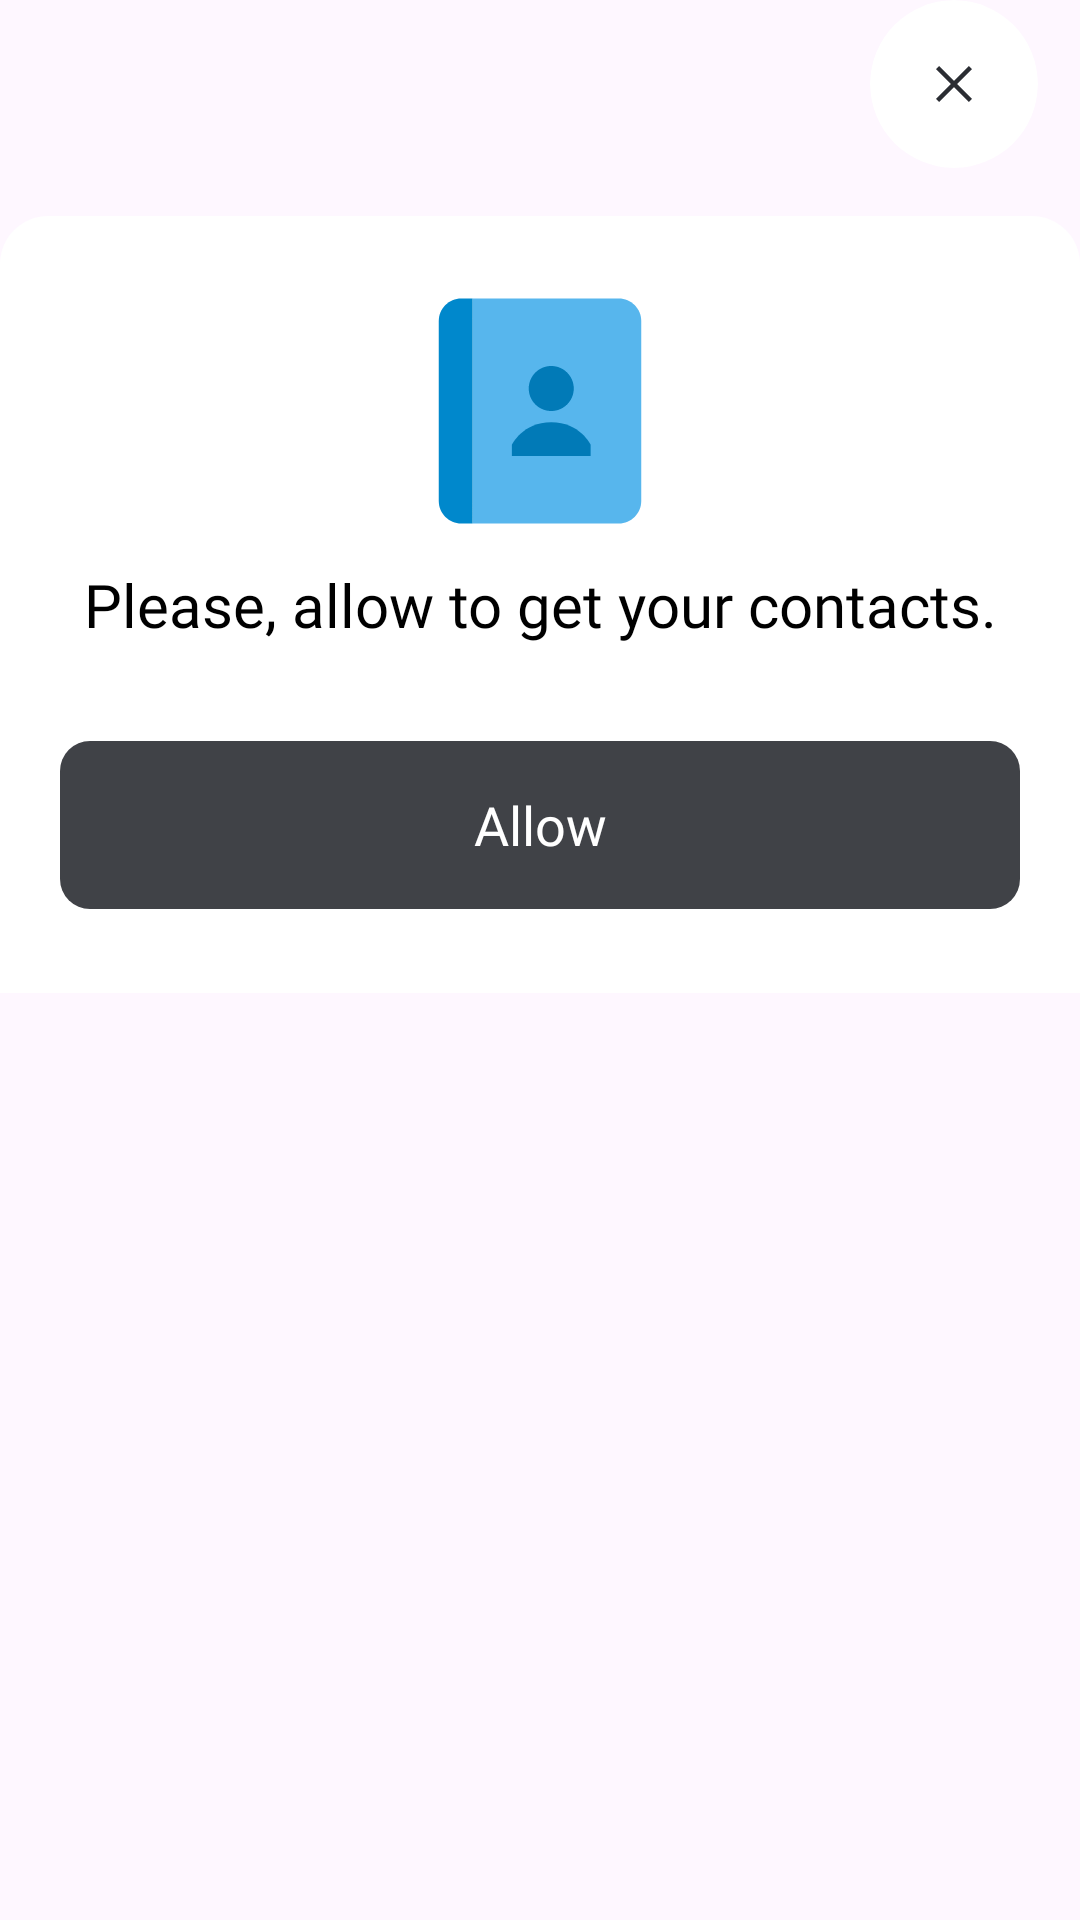

Where icons sit on this 1080 × 1920 app screen, as rect(x1, y1, x2, y2):
close: rect(936, 66, 972, 102)
